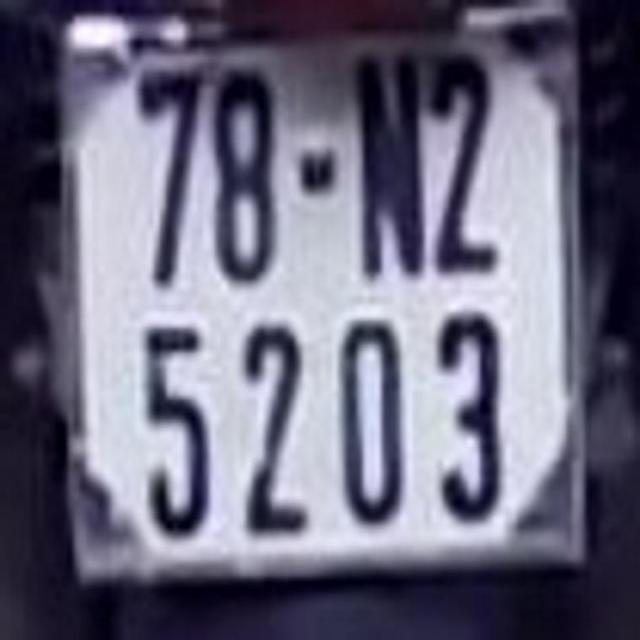0: (337, 313, 404, 521)
2: (428, 49, 502, 272), (241, 317, 308, 530)
3: (431, 303, 506, 524)
5: (140, 321, 217, 537)
7: (132, 63, 200, 286)
8: (210, 63, 274, 282)
N: (350, 47, 424, 275)
